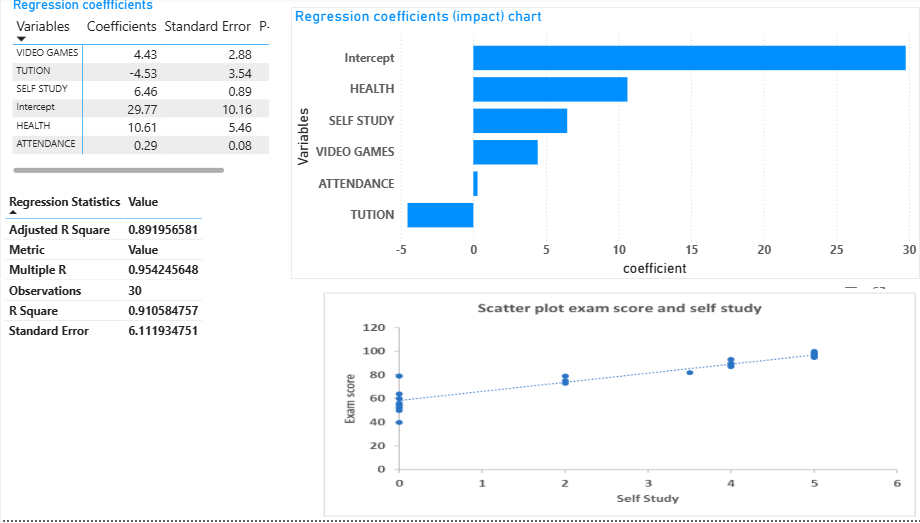

The page's visual inventory and layout, read from the dashboard file:
{"tool":"powerbi","page":{"name":"Regression dashboard","canvas":[1280,720],"ordinal":1},"visuals":[{"type":"pivotTable","title":"Regression coeffficients","fields":{"Rows":["regression coefficients.Variables"],"Values":["Sum(regression coefficients.Coefficients)","Sum(regression coefficients.Standard Error)","Sum(regression coefficients.P-value)"]},"box":[10.4,0,362.7,247.8],"z":0},{"type":"clusteredBarChart","title":"Regression coefficients (impact) chart","fields":{"Category":["regression coefficients.Variables"],"Y":["Sum(regression coefficients.Coefficients)"]},"box":[398.5,13.4,865.7,374.6],"z":1000},{"type":"tableEx","fields":{"Values":["Regression statistics.Regression Statistics","Regression statistics.Value"]},"box":[0,262.7,362.7,222.4],"z":2000},{"type":"image","box":[438.8,401.5,825.4,317.9],"z":3000}]}

Visuals, with their boxes in screenshot pixels (x1, y1, x2, y2), scaled from the page's 1280x720 canvas onto the 920x523 screenshot:
"Regression coeffficients" pivotTable: 7 0 268 180
"Regression coefficients (impact) chart" clusteredBarChart: 286 10 909 282
tableEx - Regression statistics.Regression Statistics x Regression statistics.Value: 0 191 261 352
image: 315 292 909 522
